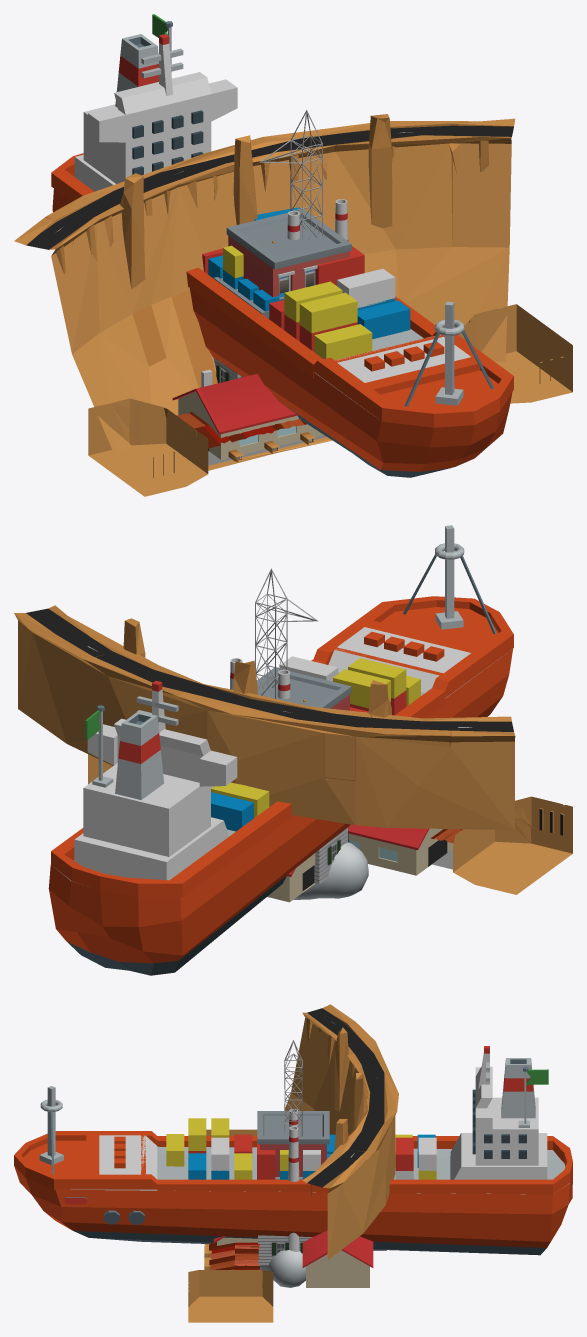
Rendered from world.glb.
3 renders of one model, top to bottom at view 1: azimuth 30°, elevation 25°; view 2: azimuth 150°, elevation 25°; view 3: azimuth 270°, elevation 25°, orthographic. The views are drawn at different scales.
Parts seen in each view (by area): view 1: dam, containerShip, mill, brickA, tower; view 2: containerShip, dam, mill, brickA, cloudBig, tower, farmhouse; view 3: containerShip, dam, mill, brickA, cloudBig, tower, farmhouse.
Part boxes in pixels (<box>): dam: <box>14,114,572,496</box>; containerShip: <box>51,14,513,477</box>; mill: <box>172,199,348,459</box>; brickA: <box>226,209,351,299</box>; tower: <box>259,110,322,240</box>; containerShip: <box>48,525,513,975</box>; dam: <box>14,605,572,894</box>; mill: <box>230,658,453,902</box>; brickA: <box>257,668,351,710</box>; cloudBig: <box>293,842,368,899</box>; tower: <box>255,568,318,698</box>; farmhouse: <box>314,827,347,884</box>; containerShip: <box>14,1046,572,1255</box>; dam: <box>188,1004,398,1322</box>; mill: <box>213,1109,373,1287</box>; brickA: <box>257,1111,329,1176</box>; cloudBig: <box>259,1250,305,1287</box>; tower: <box>284,1040,302,1136</box>; farmhouse: <box>258,1234,312,1265</box>.
Size of the model in its own units: 46.81 by 28.63 by 60.
Materials: 5 (4 with a texture image).
